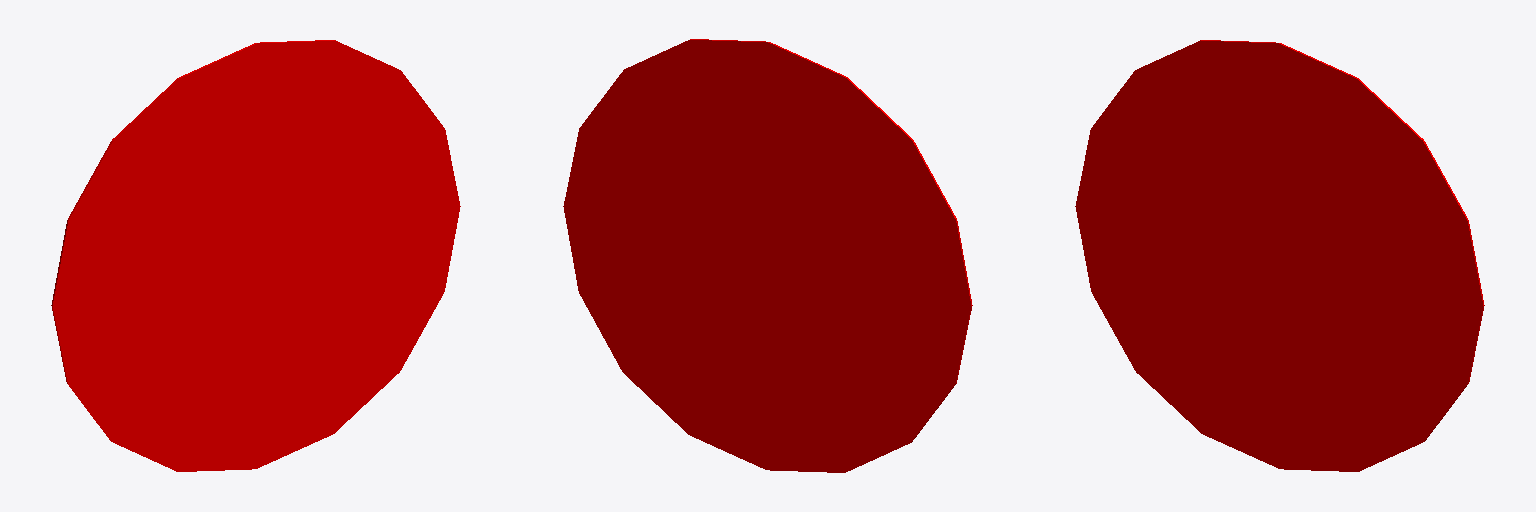
The model's file is newscene.obj.
The picture shows the model from 3 angles: view 1: azimuth 30°, elevation 25°; view 2: azimuth 150°, elevation 25°; view 3: azimuth 330°, elevation 25°; orthographic projection.
Visible parts, largest first — view 1: cylinder28; view 2: cylinder28; view 3: cylinder28.
Part boxes in pixels (left/top/right/bottom): cylinder28: left=51, top=40, right=460, bottom=471; cylinder28: left=563, top=39, right=972, bottom=472; cylinder28: left=1075, top=40, right=1484, bottom=471.
Size of the model in its own units: 200 by 200 by 2.19.